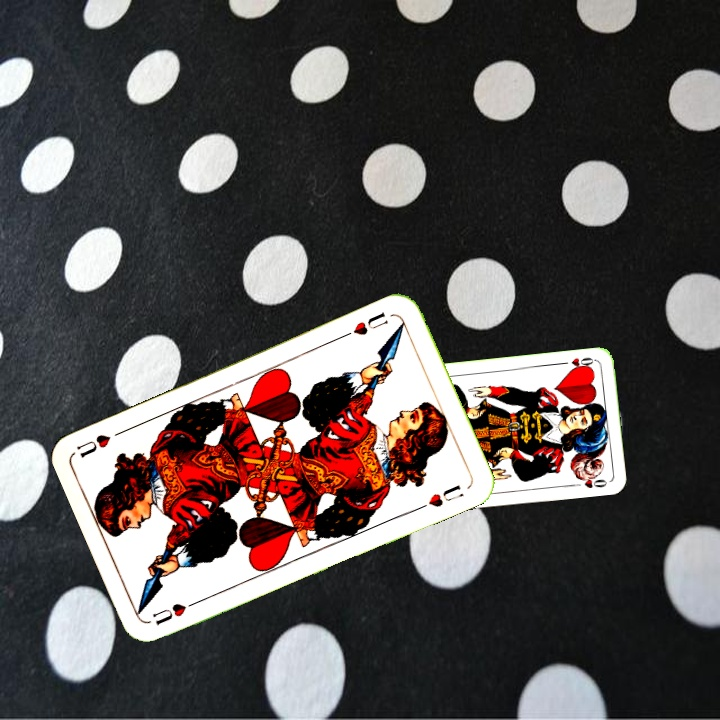HO: (557, 353, 598, 373)
HU: (148, 595, 203, 628), (349, 308, 391, 338)
